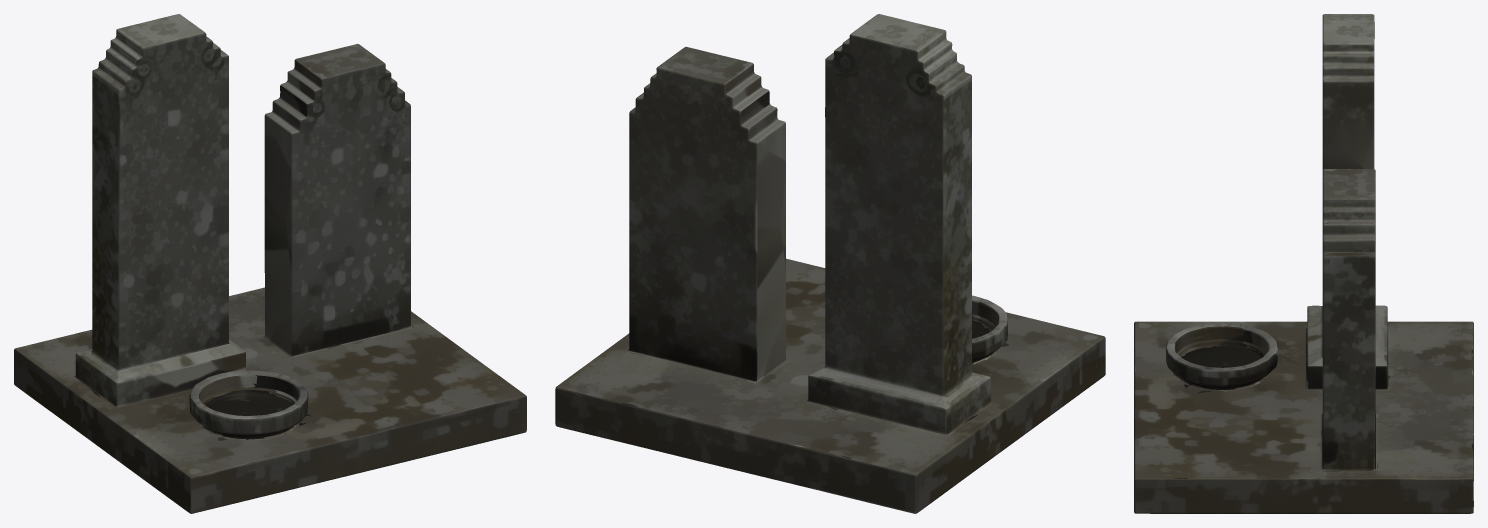
Rendered from traveler_env_coast_ojatara_grave_marker_00001_.glb.
The picture shows the model from 3 angles, left to right: view 1: azimuth 30°, elevation 25°; view 2: azimuth 150°, elevation 25°; view 3: azimuth 270°, elevation 25°; orthographic projection. The views are drawn at different scales.
Visible parts, largest first — view 1: temp_mesh.ply; view 2: temp_mesh.ply; view 3: temp_mesh.ply.
Part boxes in pixels (x1,y1,x2,y2): temp_mesh.ply: (14,14,526,513); temp_mesh.ply: (555,14,1105,513); temp_mesh.ply: (1134,14,1473,513).
Bounding box in the file's own units: 1.82 × 1.97 × 1.66.
Materials: 1 (1 with a texture image).
